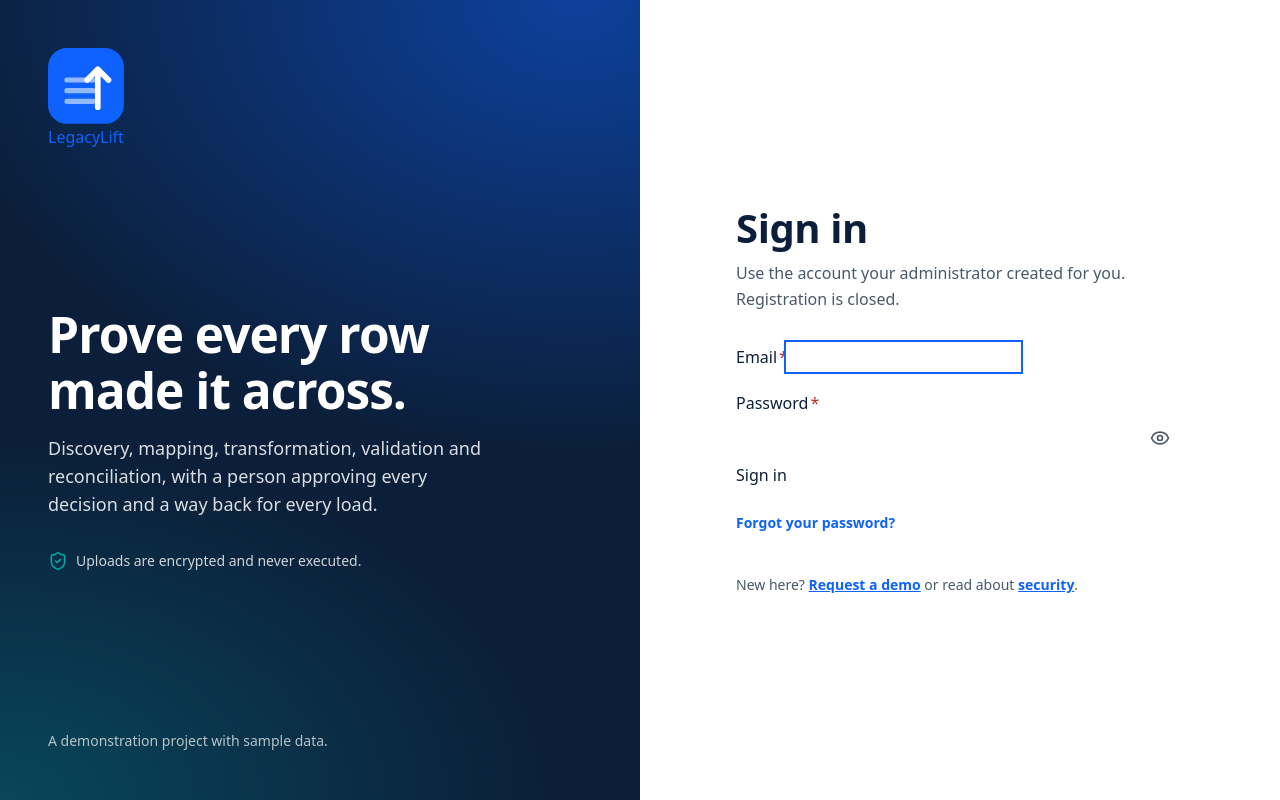
Login page › validates before it asks the server
The width and height of the screenshot is (1280, 800).
Click the button "Sign in" at coordinates (761, 475), box [736, 462, 787, 488]
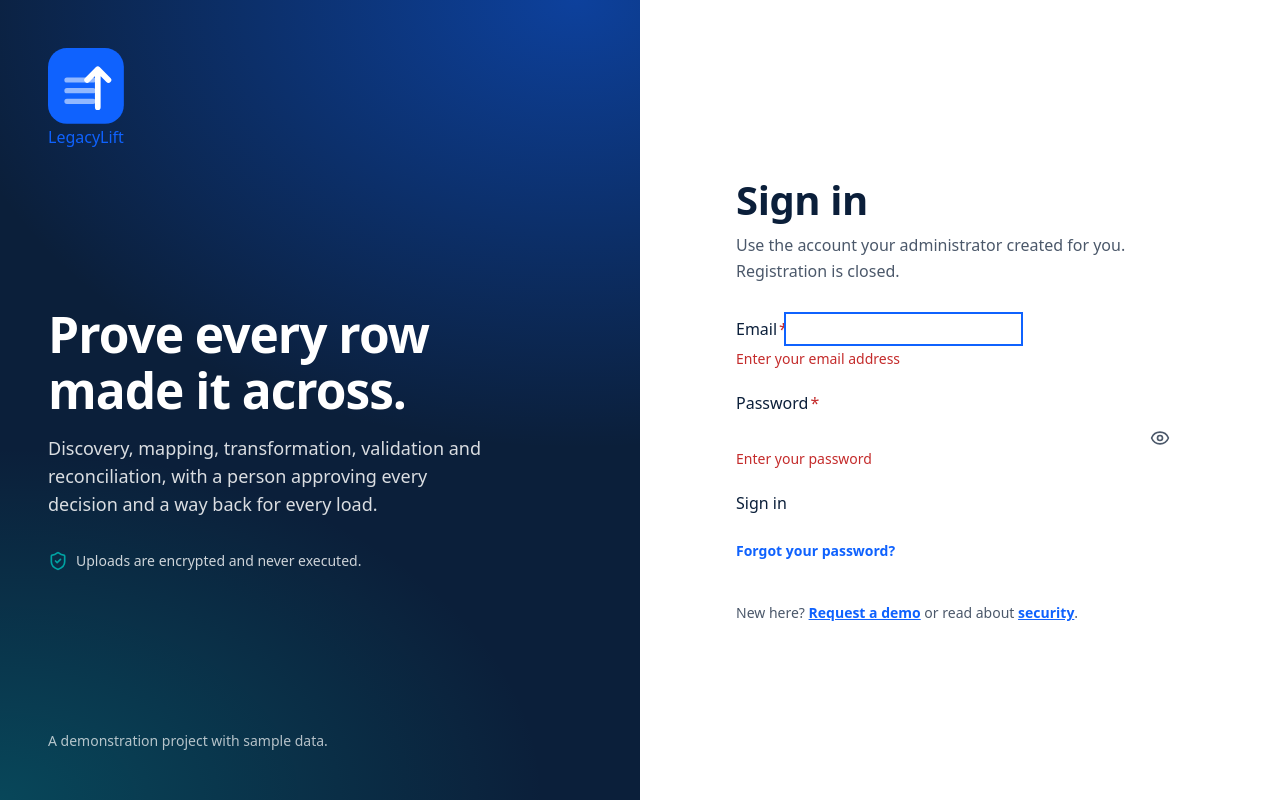
Expected: the text "Enter your email address" is shown, [736, 349, 900, 368]
Expected: the text "Enter your password" is shown, [736, 449, 872, 468]
